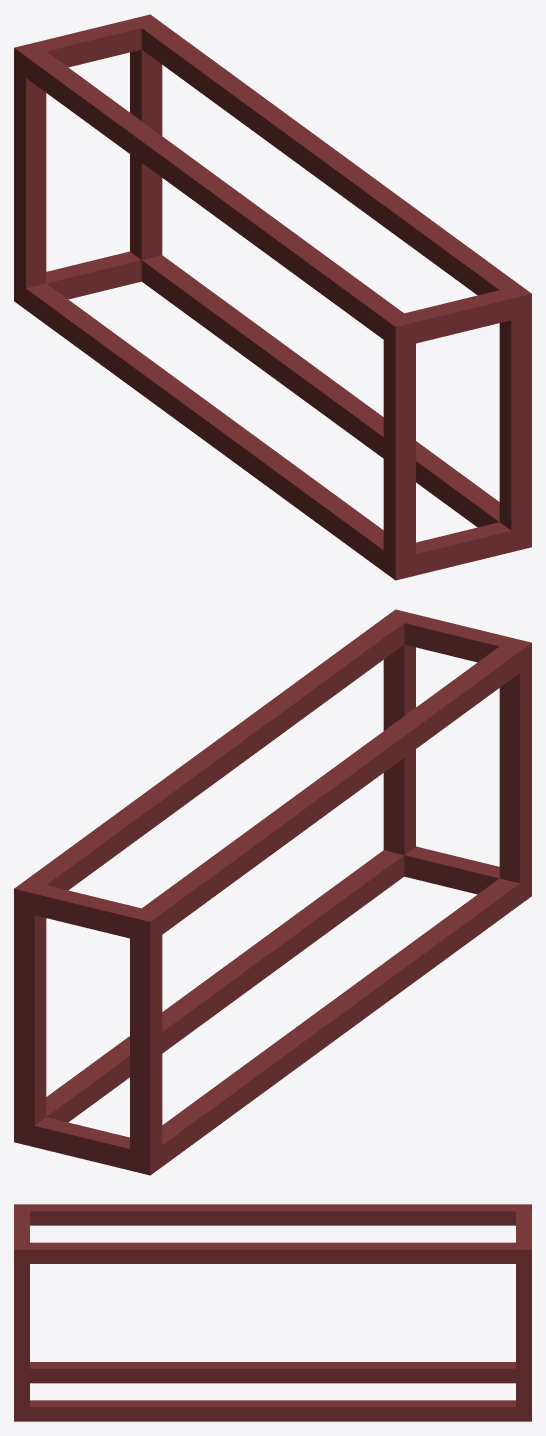
File: brick_outline_prototyp.fbx
The picture shows the model from 3 angles, top to bottom: view 1: azimuth 30°, elevation 25°; view 2: azimuth 150°, elevation 25°; view 3: azimuth 270°, elevation 25°; orthographic projection. The views are drawn at different scales.
Parts seen in each view (by area): view 1: Cube.098; view 2: Cube.098; view 3: Cube.098.
Boxes of the visible parts, <box> form: Cube.098: <box>14,14,531,580</box>; Cube.098: <box>14,609,531,1175</box>; Cube.098: <box>14,1204,531,1421</box>.
Bounding box in the file's own units: 41.28 × 73.3 × 200.
